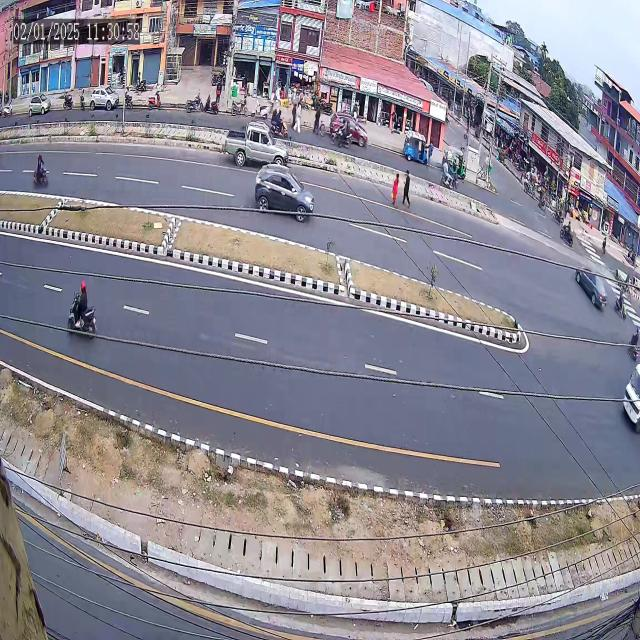car: (245, 158, 322, 230), (217, 114, 286, 178), (563, 256, 610, 325), (322, 89, 372, 153), (400, 125, 435, 178)
motorcycle: (58, 260, 103, 358), (26, 141, 54, 197)
